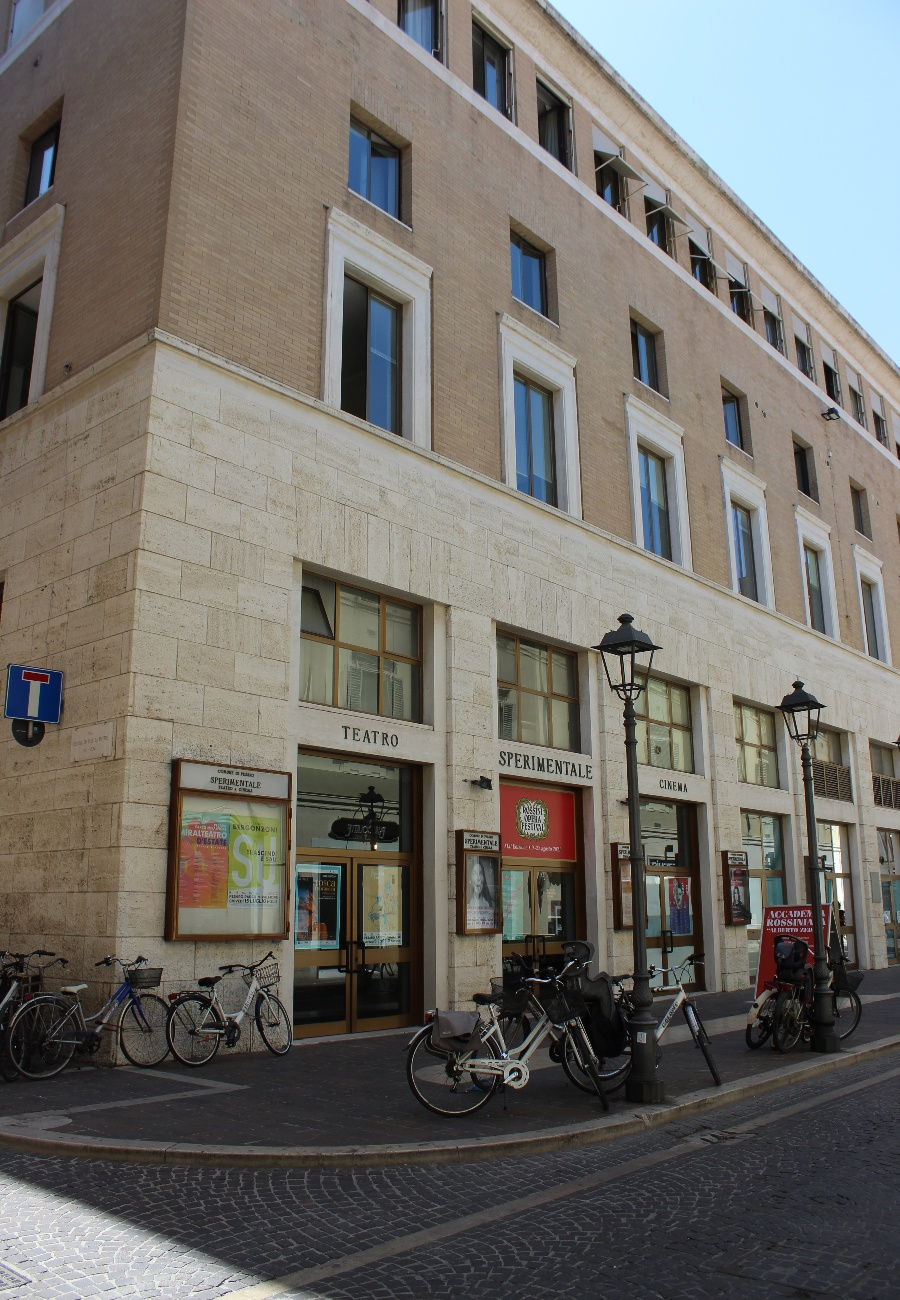Teatro Sperimentale: (101, 1, 900, 1060)
